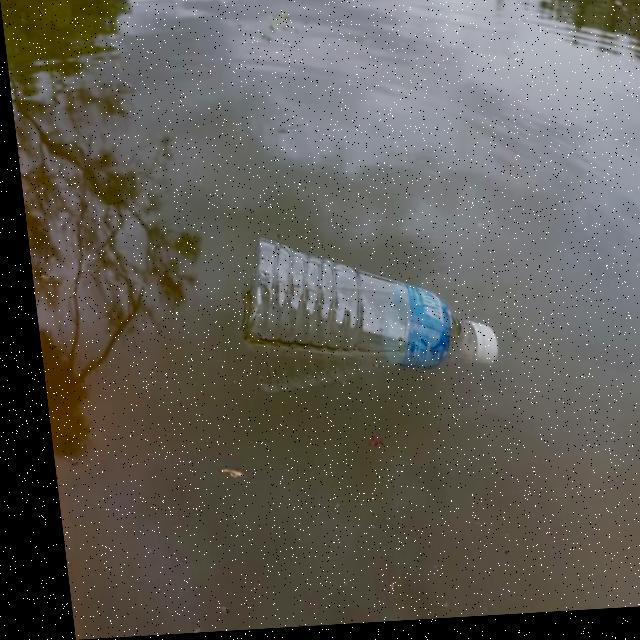waterbottle: (194, 235, 527, 414)
